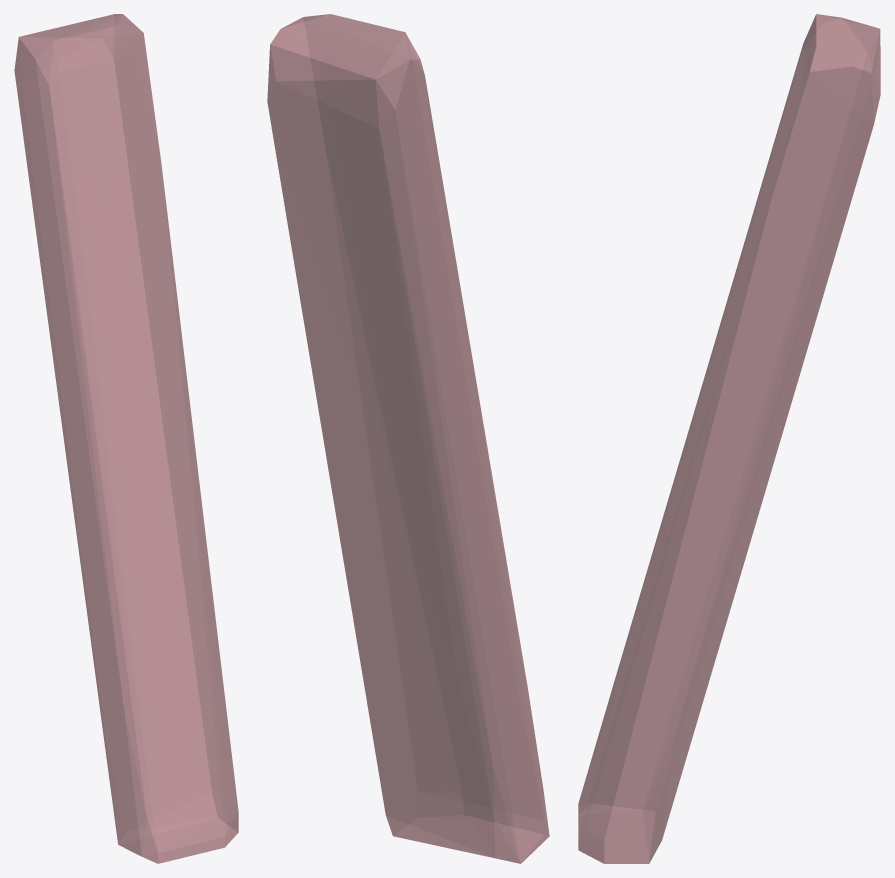
3 renders of one model, left to right at view 1: azimuth 30°, elevation 25°; view 2: azimuth 150°, elevation 25°; view 3: azimuth 270°, elevation 25°, orthographic. The views are drawn at different scales.
Parts seen in each view (by area): view 1: Shape_IndexedFaceSet.004_Shape_IndexedFaceSet.834; view 2: Shape_IndexedFaceSet.004_Shape_IndexedFaceSet.834; view 3: Shape_IndexedFaceSet.004_Shape_IndexedFaceSet.834.
Part boxes in pixels (box(x1,y1,x2,y2)): Shape_IndexedFaceSet.004_Shape_IndexedFaceSet.834: box(14, 14, 238, 863); Shape_IndexedFaceSet.004_Shape_IndexedFaceSet.834: box(267, 14, 549, 863); Shape_IndexedFaceSet.004_Shape_IndexedFaceSet.834: box(578, 14, 880, 863).
Bounding box in the file's own units: 0.077 × 0.531 × 0.1808.
